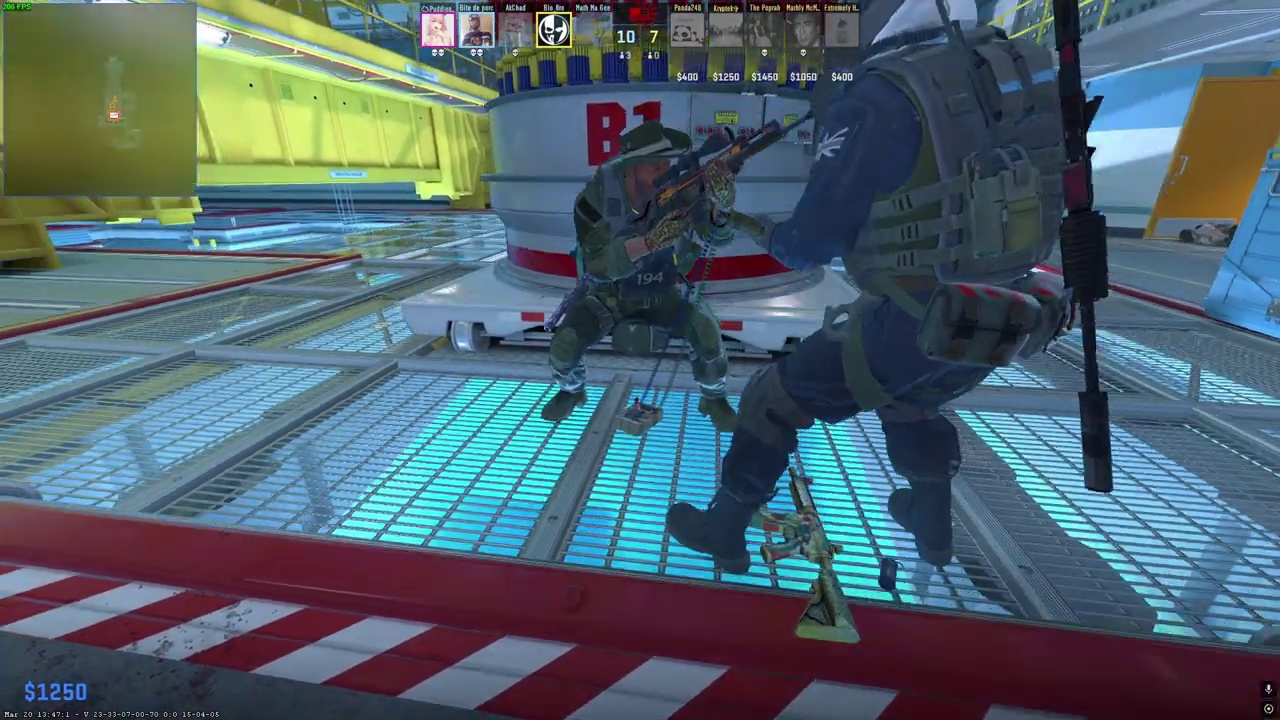CT: (703, 0, 1078, 573), (556, 128, 731, 429)
